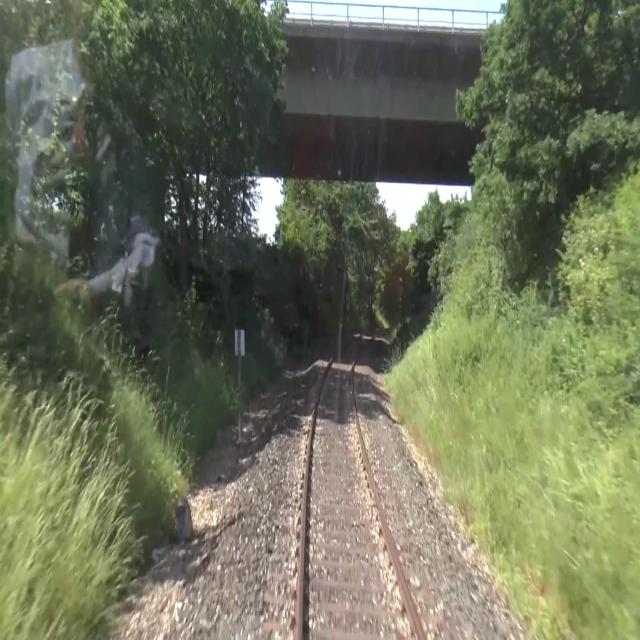rail-track: (303, 332, 420, 639)
